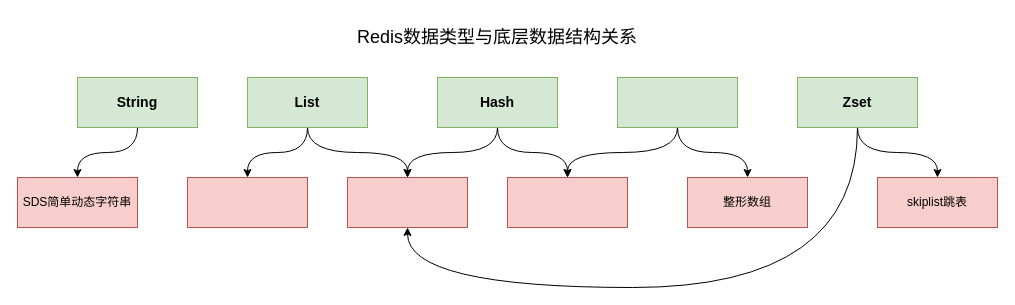
Some shapes in this 1015 by 305 pixel diagram are drawn without their labels. The box of each missing label's shape, as (x1, y1, x2, y2) in pixels:
Hash表: (506, 176, 628, 228)
LinkedList双端列表: (186, 176, 308, 228)
Set: (616, 76, 738, 128)
zipList压缩列表: (346, 176, 468, 228)
